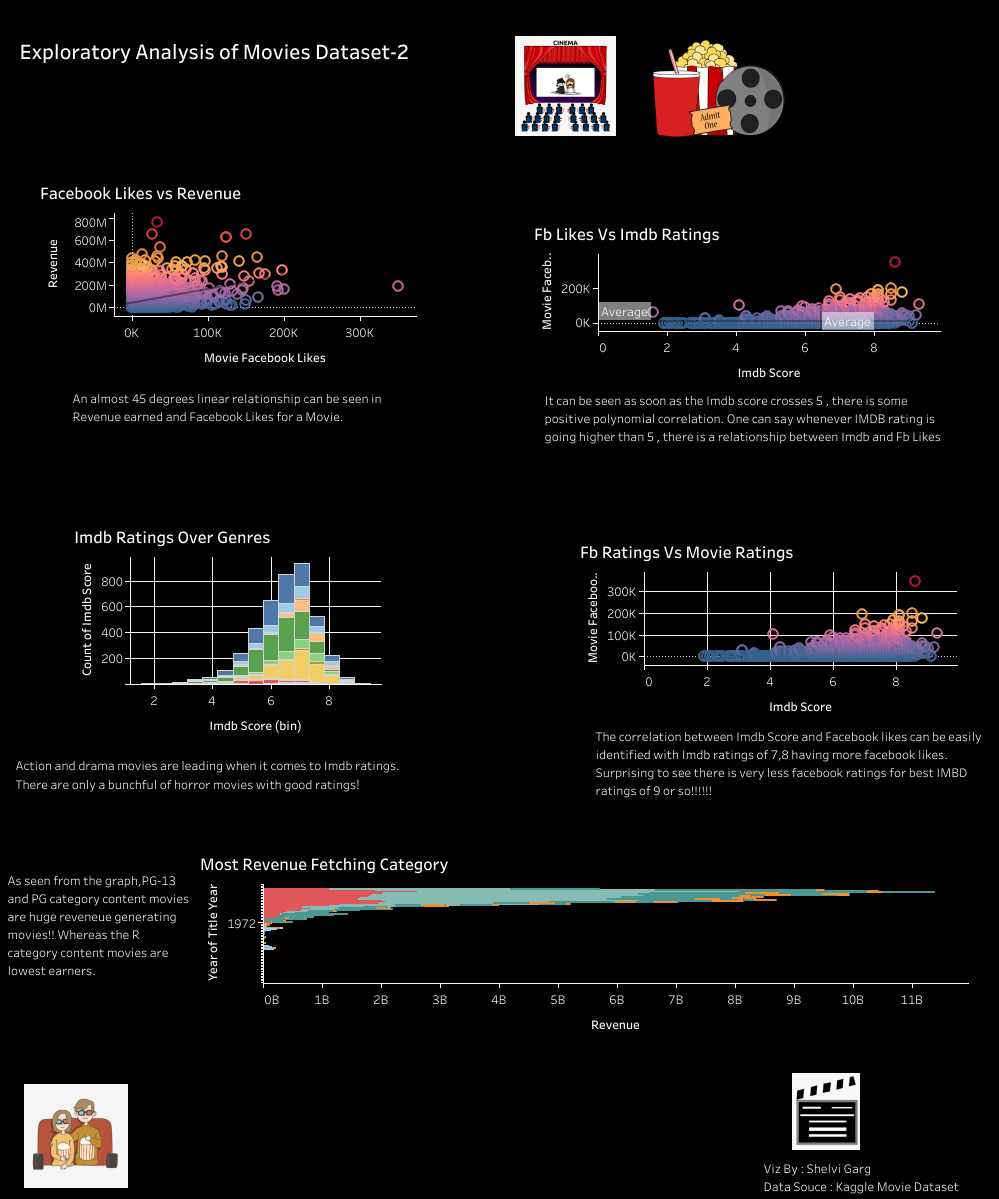

This screenshot's page, from the dashboard's own definition file:
{"tool":"tableau","page":{"name":"Dashboard 2 : Rating and Likes","canvas":[1000,1200],"ordinal":1},"visuals":[{"type":"worksheet","box":[17,16.8,420,67.2]},{"type":"worksheet","param":"Image/18-183313_theater-clipart-movie-theater-clipart.png","box":[515,36,121,100]},{"type":"worksheet","param":"Image/0b44ff30dbe13528285e97eb23b3e185.png","box":[653,40,138,100]},{"type":"worksheet","title":"Facebook Likes vs Revenue","mark":"Automatic","rows":["gross"],"cols":["movie_facebook_likes"],"box":[36,175,380,198]},{"type":"worksheet","title":"Fb Likes Vs Imdb Ratings","mark":"Automatic","rows":["movie_facebook_likes"],"cols":["imdb_score"],"box":[530,216,410,172]},{"type":"worksheet","box":[70,370,343,73]},{"type":"worksheet","box":[542,390,410,56]},{"type":"worksheet","title":"Imdb Ratings Over Genres","mark":"Automatic","rows":["imdb_score"],"cols":["Imdb Score (bin)"],"box":[70,519,311,222]},{"type":"worksheet","title":"Fb Ratings Vs Movie Ratings","mark":"Automatic","rows":["movie_facebook_likes"],"cols":["imdb_score"],"box":[576,534,381,188]},{"type":"worksheet","box":[593,722,402,82]},{"type":"worksheet","box":[13,742,404,65]},{"type":"worksheet","title":"Most Revenue Fetching Category","mark":"Bar","rows":["title_year"],"cols":["gross"],"box":[196,846,772,194]},{"type":"worksheet","box":[5,863,187,124]},{"type":"worksheet","param":"Image/download.png","box":[792,1073,68,81]},{"type":"worksheet","param":"Image/pngtree-couple-movie-theater-watching-movie-illustration-free-element-down","box":[24,1084,104,110]},{"type":"worksheet","box":[761,1156,201,41]}]}

Visuals, with their boxes in screenshot pixels (x1, y1, x2, y2), scaled from the page's 1000x1200 canvas onto the 999x1199 screenshot:
worksheet: 17:17:437:84
worksheet: 514:36:635:136
worksheet: 652:40:790:140
"Facebook Likes vs Revenue" worksheet: 36:175:416:373
"Fb Likes Vs Imdb Ratings" worksheet: 529:216:939:388
worksheet: 70:370:413:443
worksheet: 541:390:951:446
"Imdb Ratings Over Genres" worksheet: 70:519:381:740
"Fb Ratings Vs Movie Ratings" worksheet: 575:534:956:721
worksheet: 592:721:994:803
worksheet: 13:741:417:806
"Most Revenue Fetching Category" worksheet (Bar marks): 196:845:967:1039
worksheet: 5:862:192:986
worksheet: 791:1072:859:1153
worksheet: 24:1083:128:1193
worksheet: 760:1155:961:1196
